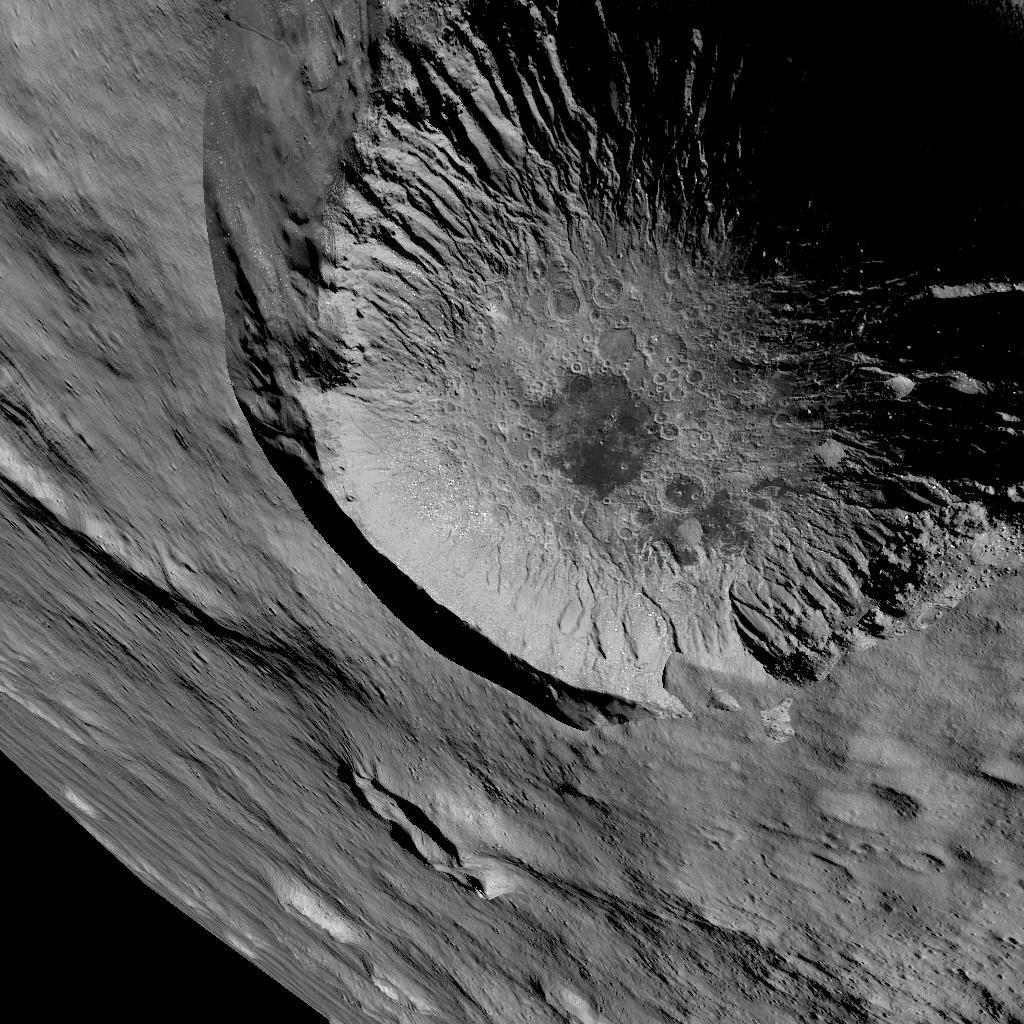Crater: (201, 0, 1024, 735), (331, 744, 501, 904)
Plan surface: (535, 756, 1024, 1024)
